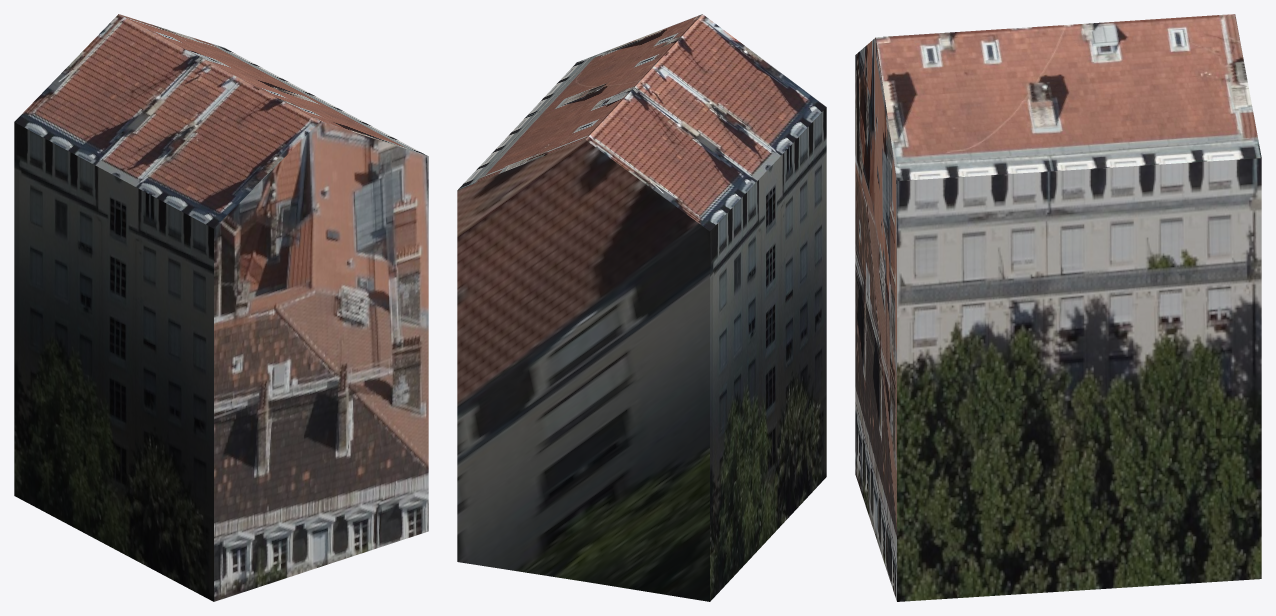
3 views of the same model, side by side, from view 1: azimuth 30°, elevation 25°; view 2: azimuth 150°, elevation 25°; view 3: azimuth 270°, elevation 25° (orthographic). The views are drawn at different scales.
Visible parts, largest first — view 1: Z_UP; view 2: Z_UP; view 3: Z_UP.
Boxes of the visible parts, bbox=[...] form: Z_UP: bbox=[14, 14, 428, 601]; Z_UP: bbox=[457, 14, 826, 601]; Z_UP: bbox=[855, 14, 1261, 601].
Size of the model in its own units: 17.57 by 27.28 by 20.08.
2 materials, 1 textured.
